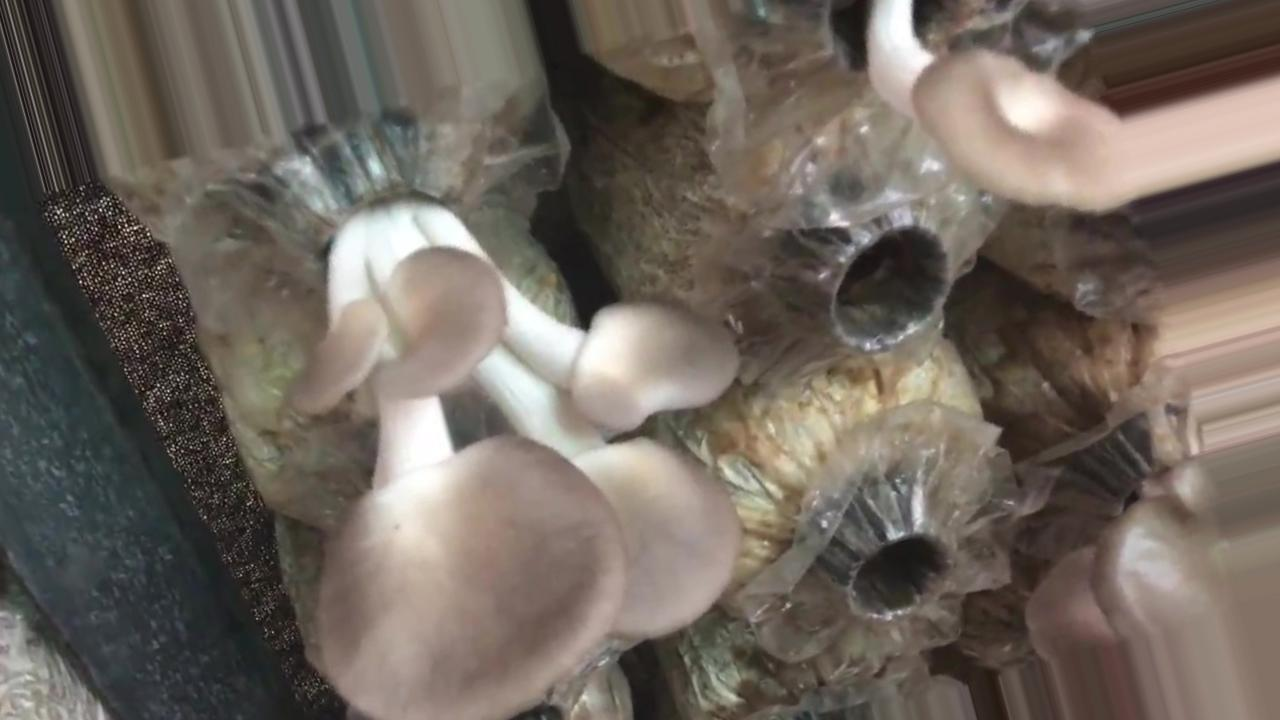nam: (281, 138, 736, 720), (825, 2, 1280, 212)
